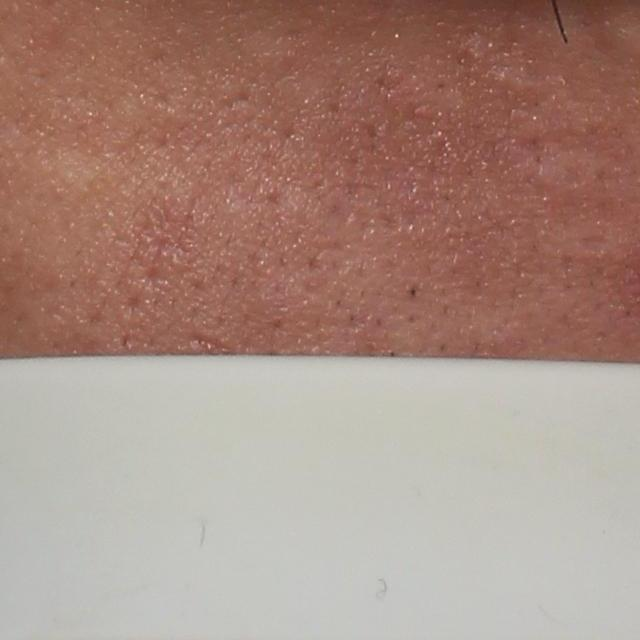hypertrophic_scar: (514, 139, 620, 193)
